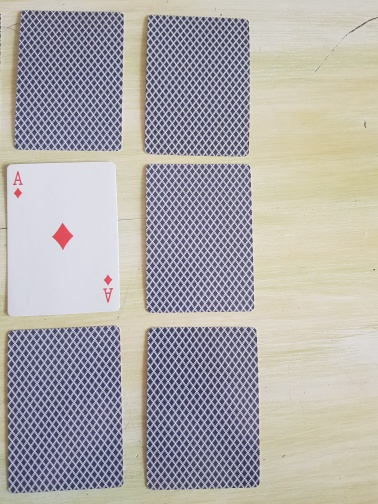ace: (6, 162, 121, 316)
